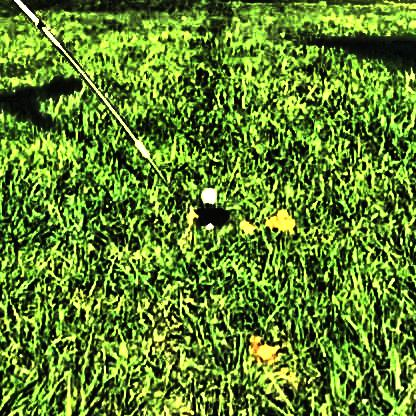golfball: (197, 183, 216, 200)
